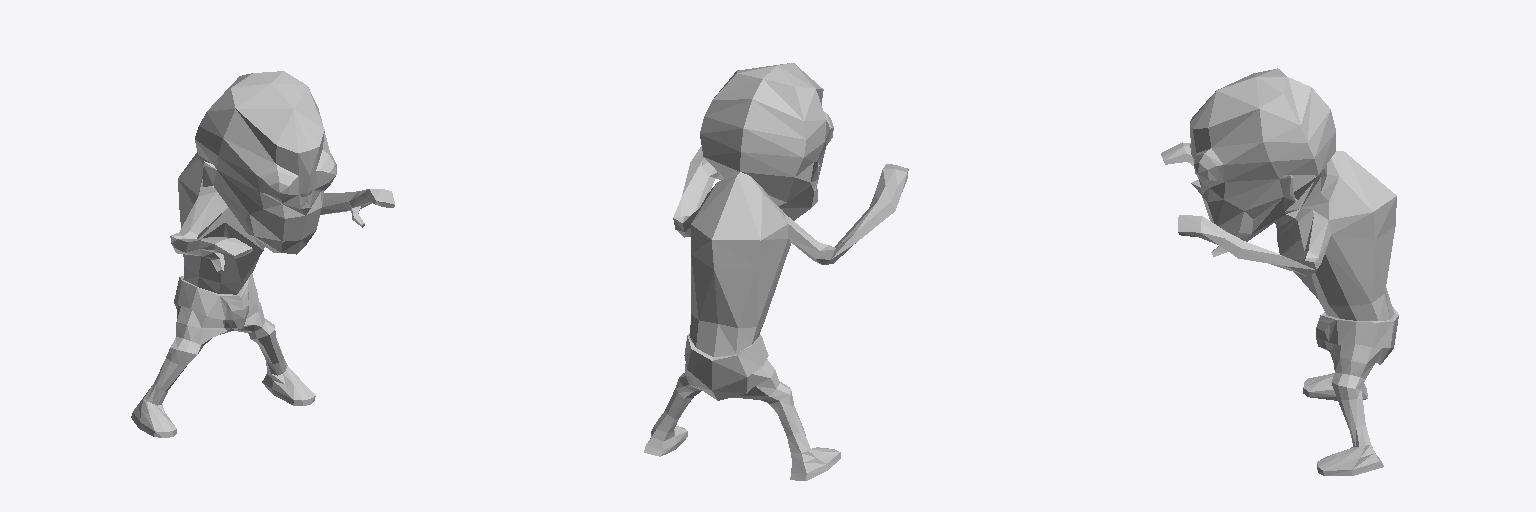
The model's file is GuardianNormal_000088.obj.
3 renders of one model, left to right at view 1: azimuth 30°, elevation 25°; view 2: azimuth 150°, elevation 25°; view 3: azimuth 270°, elevation 25°, orthographic.
Parts seen in each view (by area): view 1: untitled2:Mesh1.001; view 2: untitled2:Mesh1.001; view 3: untitled2:Mesh1.001.
Part boxes in pixels (left/top/right/bottom): untitled2:Mesh1.001: left=131, top=71, right=394, bottom=437; untitled2:Mesh1.001: left=644, top=63, right=908, bottom=480; untitled2:Mesh1.001: left=1161, top=68, right=1398, bottom=475.
Size of the model in its own units: 8.43 by 14.73 by 8.81.